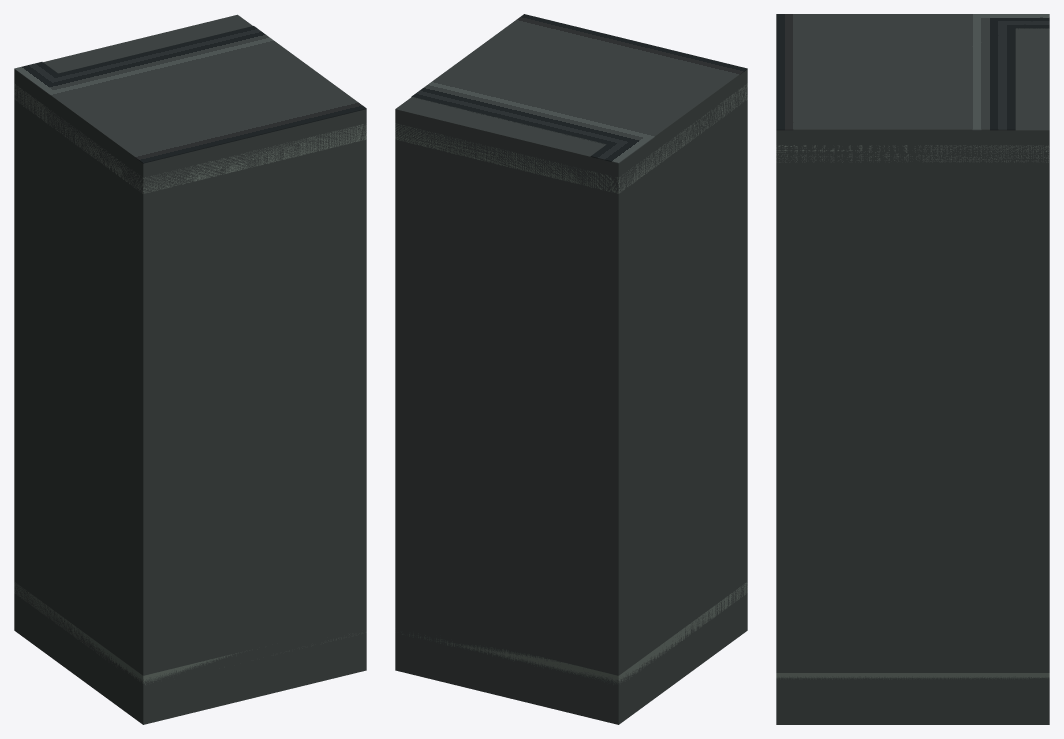
Rendered from CMU3DInteriorVehicleAPCCornerInverseR.glb.
3 renders of one model, left to right at view 1: azimuth 30°, elevation 25°; view 2: azimuth 150°, elevation 25°; view 3: azimuth 270°, elevation 25°, orthographic. The views are drawn at different scales.
Visible parts, largest first — view 1: cabin bulkhead, cabin bulkhead source finish, upper armor trim, lower armor trim; view 2: cabin bulkhead, cabin bulkhead source finish, upper armor trim, lower armor trim; view 3: cabin bulkhead, cabin bulkhead source finish, lower armor trim, upper armor trim.
Part boxes in pixels (box(x1,y1,x2,y2)): cabin bulkhead: box(14, 14, 366, 724); cabin bulkhead source finish: box(14, 26, 366, 163); upper armor trim: box(14, 83, 366, 193); lower armor trim: box(14, 582, 366, 684); cabin bulkhead: box(395, 69, 747, 724); cabin bulkhead source finish: box(411, 14, 747, 163); upper armor trim: box(395, 83, 747, 193); lower armor trim: box(401, 582, 747, 684); cabin bulkhead: box(776, 28, 1049, 724); cabin bulkhead source finish: box(776, 14, 1049, 130); lower armor trim: box(776, 673, 1049, 679); upper armor trim: box(776, 145, 1049, 162).
Size of the model in its own units: 1 by 2.4 by 1.
Materials: 4 (1 with a texture image).
